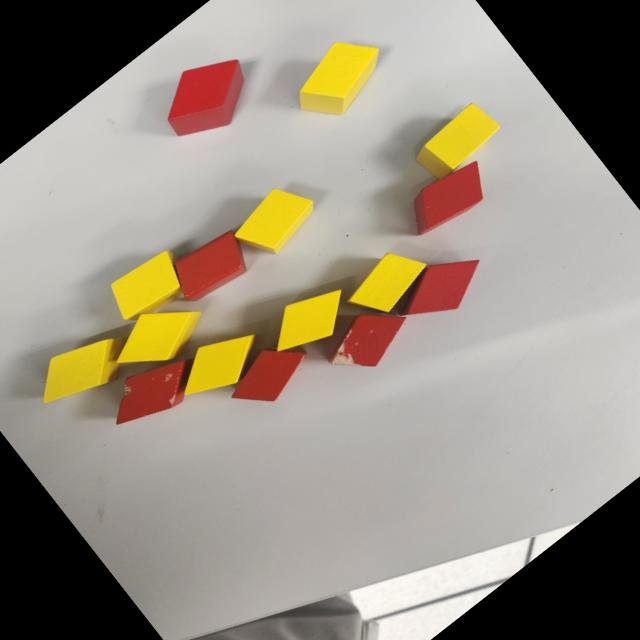broken: (98, 338, 210, 442), (316, 291, 420, 389)
red: (147, 39, 267, 154), (388, 236, 496, 338), (397, 150, 499, 244), (162, 220, 260, 313), (220, 329, 318, 421)
yellow: (281, 22, 398, 132), (24, 315, 140, 423), (100, 282, 214, 388), (166, 313, 272, 412), (258, 272, 360, 368), (226, 172, 326, 268), (338, 237, 437, 329), (411, 98, 505, 184), (102, 242, 195, 328)
